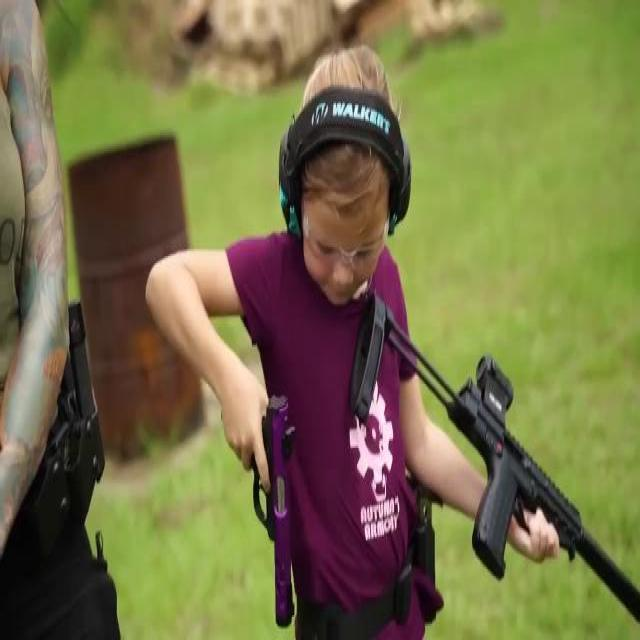pistol: (360, 292, 640, 630), (220, 400, 296, 628)
